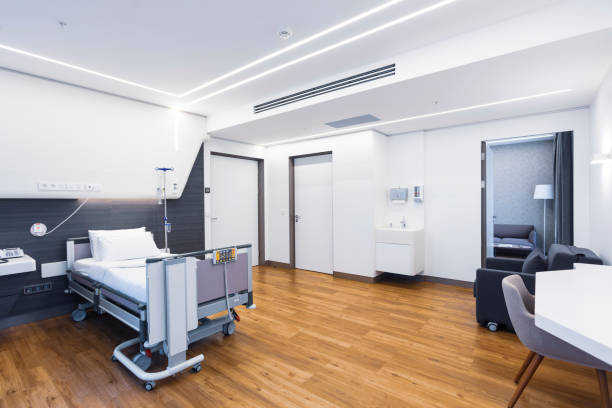chair: (500, 270, 612, 408)
counter: (374, 228, 424, 274)
countertop: (534, 262, 612, 367), (1, 254, 36, 276)
curtain: (553, 132, 575, 246)
dispenser: (389, 185, 409, 204), (412, 184, 424, 204)
door_handle: (292, 212, 303, 224), (211, 215, 221, 226)
faucet: (400, 215, 407, 229)
foot_board: (153, 250, 257, 341)
hospital_bed: (65, 229, 255, 380)
iv_pole: (155, 167, 174, 250)
sequential_compression: (212, 246, 240, 268)
sink: (374, 224, 422, 230)
sofa: (473, 243, 603, 330), (494, 223, 536, 249)
